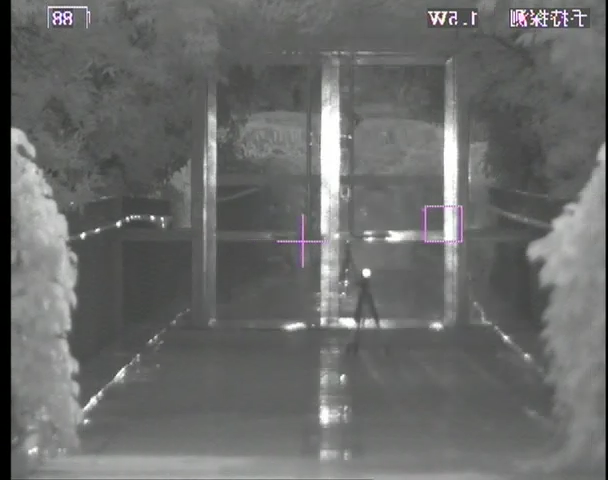my: (360, 267, 372, 279)
